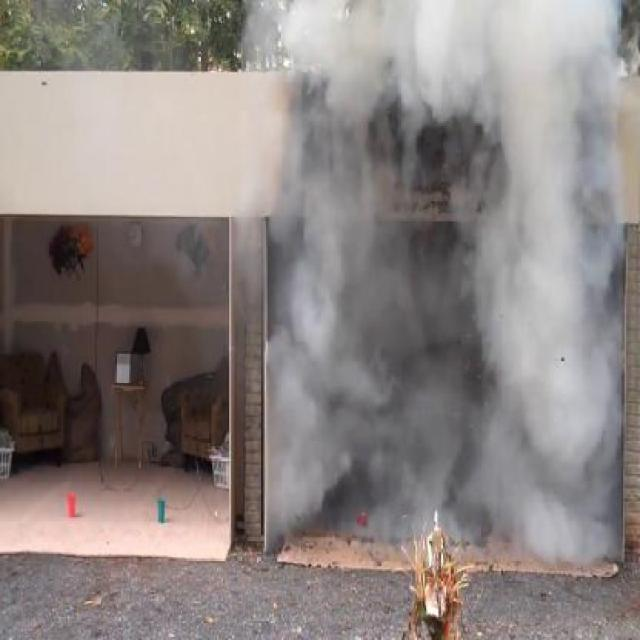smoke: (233, 18, 627, 577)
